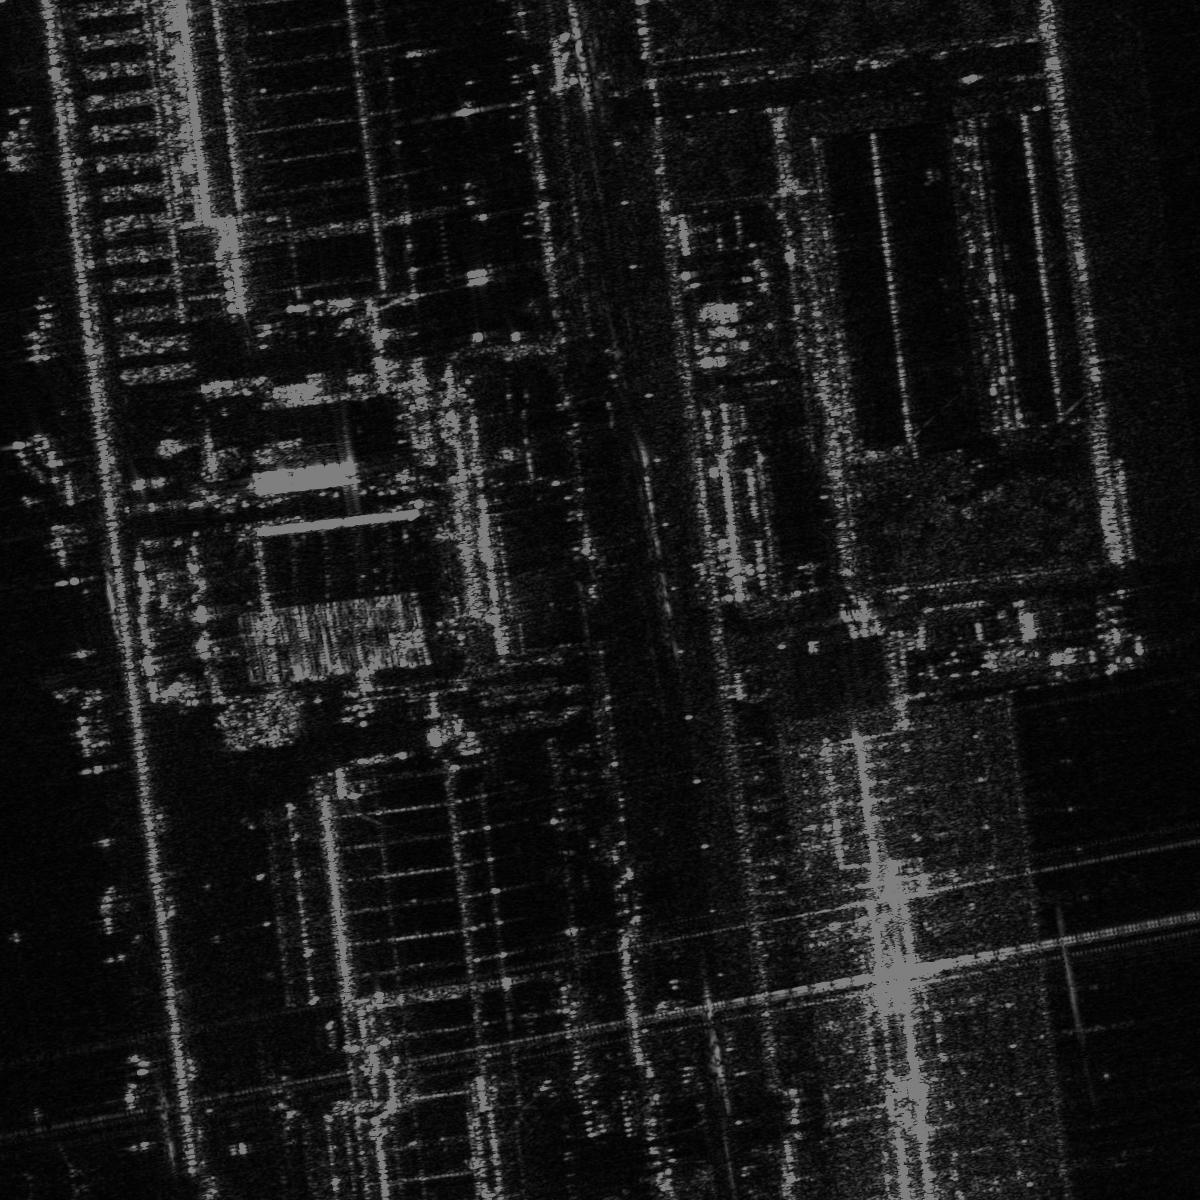Boeing787: (15, 1138, 103, 1199)
